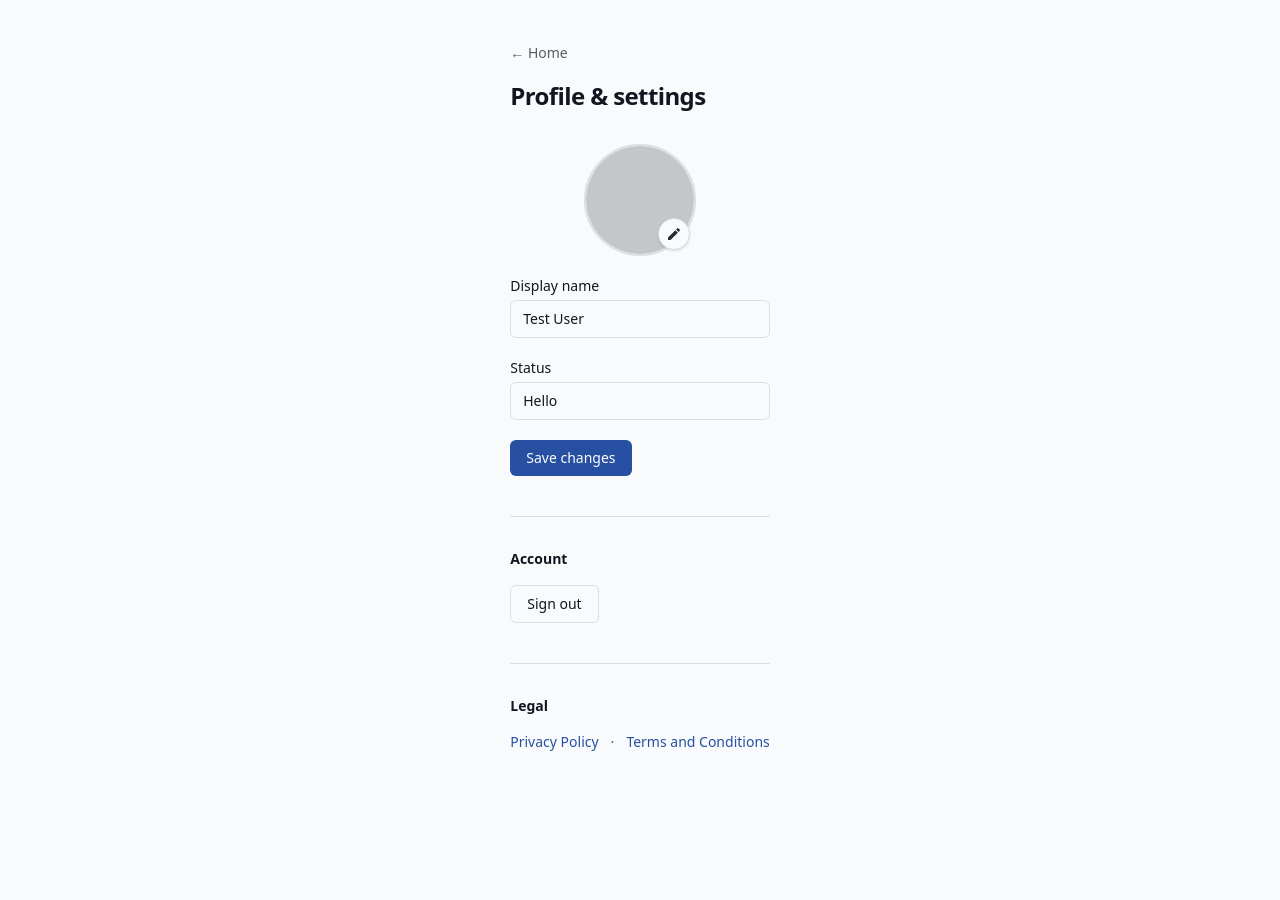
Test: SettingsPage › opens profile photo dialog from avatar control and closes on Cancel
The width and height of the screenshot is (1280, 900).
Click the button named "change profile photo". click: (640, 200)
box: [584,144,696,256]
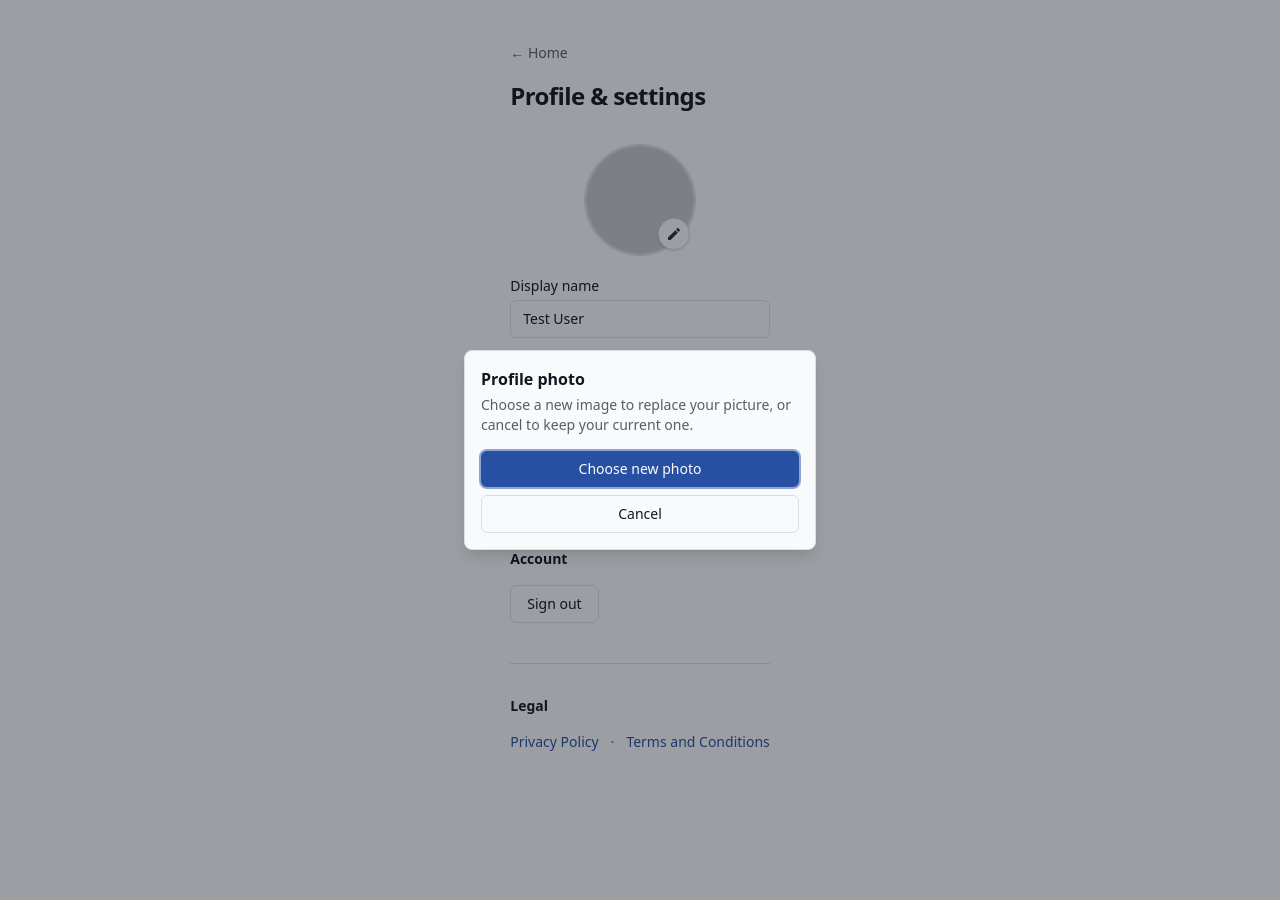
Expected: the heading "Profile photo" is shown, [481,368,585,390]
Click the button "Cancel". click: (640, 514)
box: [481,495,799,533]
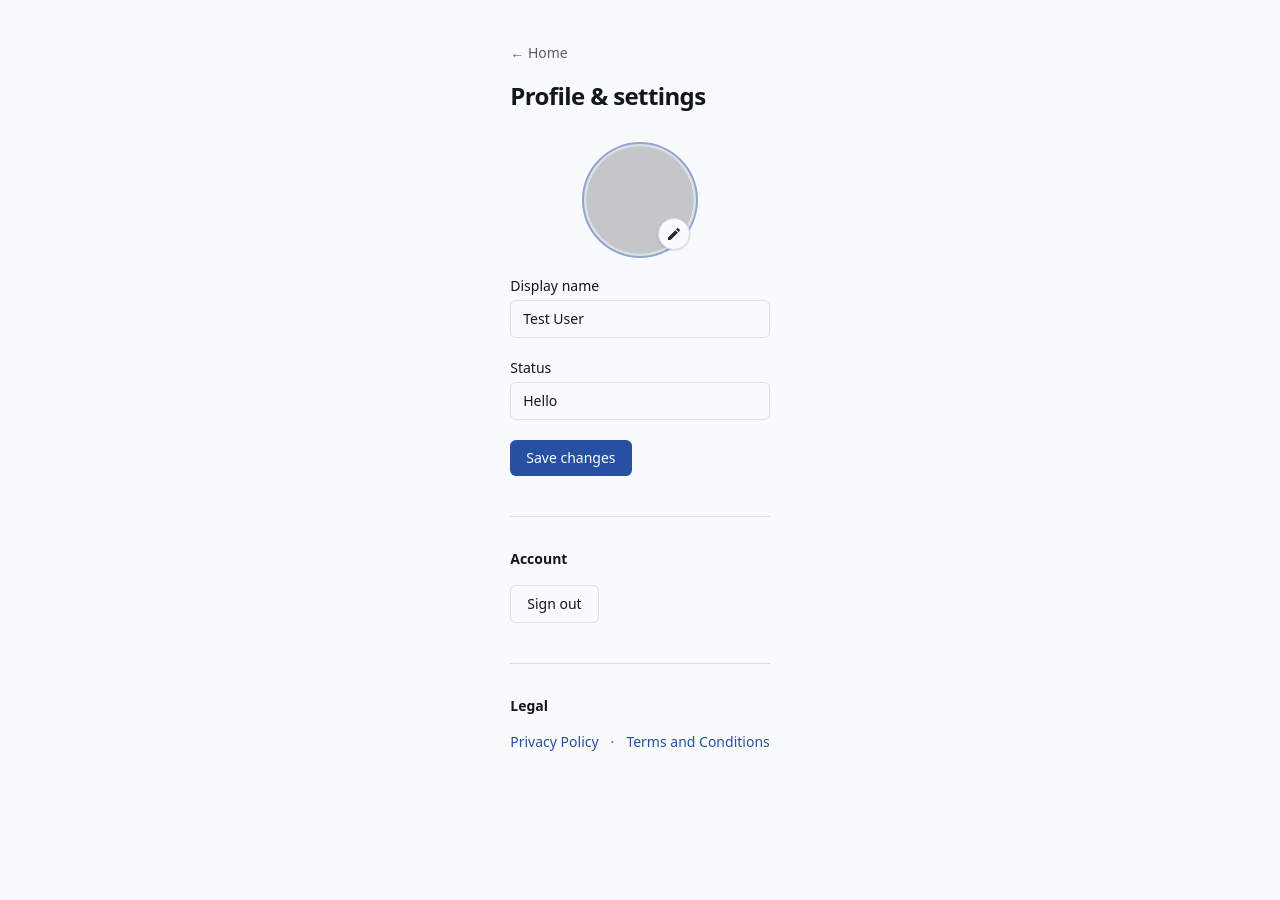
Expected: the heading "Profile photo" is gone
